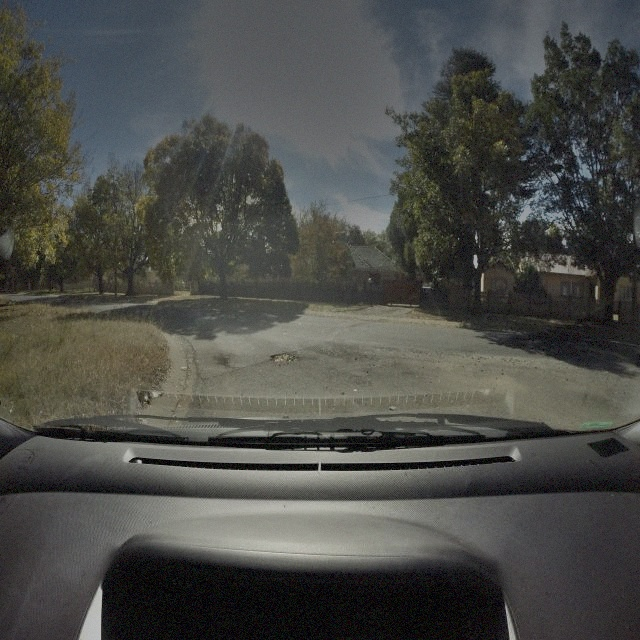pothole: (270, 350, 297, 365)
